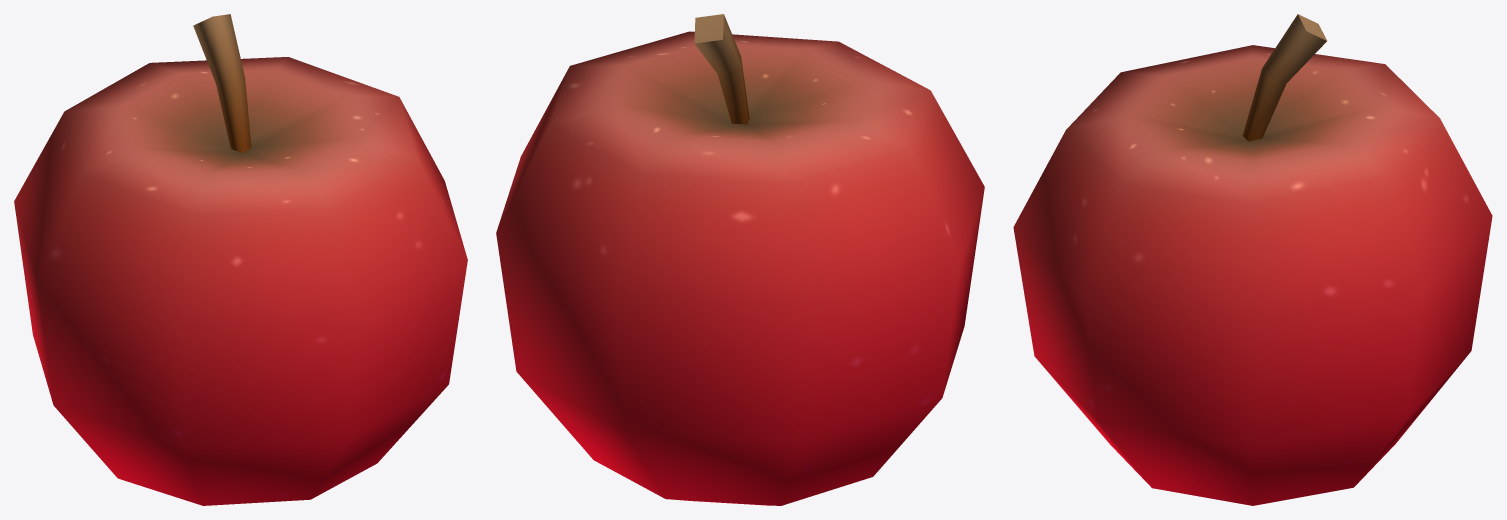
The model's file is apple.fbx.
3 views of the same model, side by side, from view 1: azimuth 30°, elevation 25°; view 2: azimuth 150°, elevation 25°; view 3: azimuth 270°, elevation 25° (orthographic). The views are drawn at different scales.
Visible parts, largest first — view 1: apple_mesh; view 2: apple_mesh; view 3: apple_mesh.
Boxes of the visible parts, box(x1,y1,x2,y2) form: apple_mesh: box(14, 14, 467, 505); apple_mesh: box(496, 14, 984, 505); apple_mesh: box(1013, 14, 1492, 505).
Bounding box in the file's own units: 0.4263 × 0.4368 × 0.4239.
